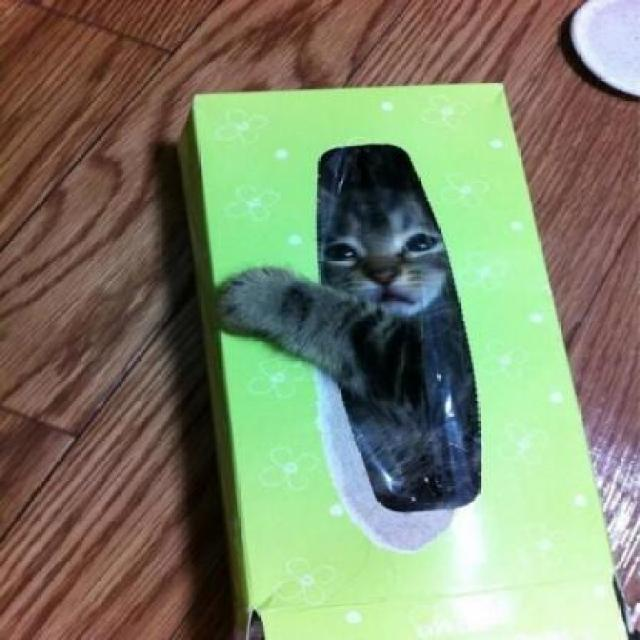cat: (216, 136, 542, 509)
